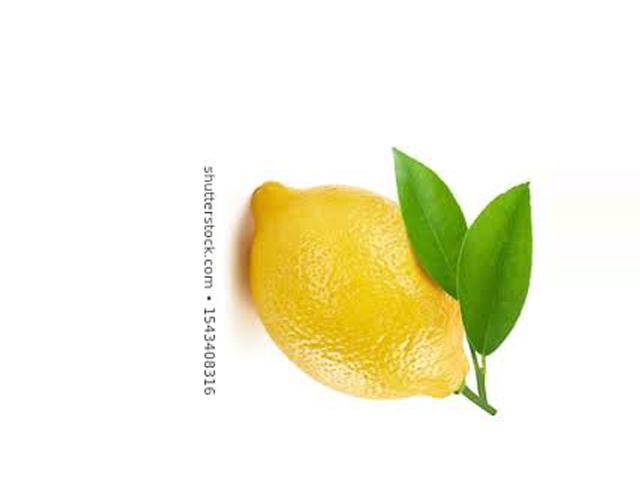lemon: (240, 159, 500, 411)
